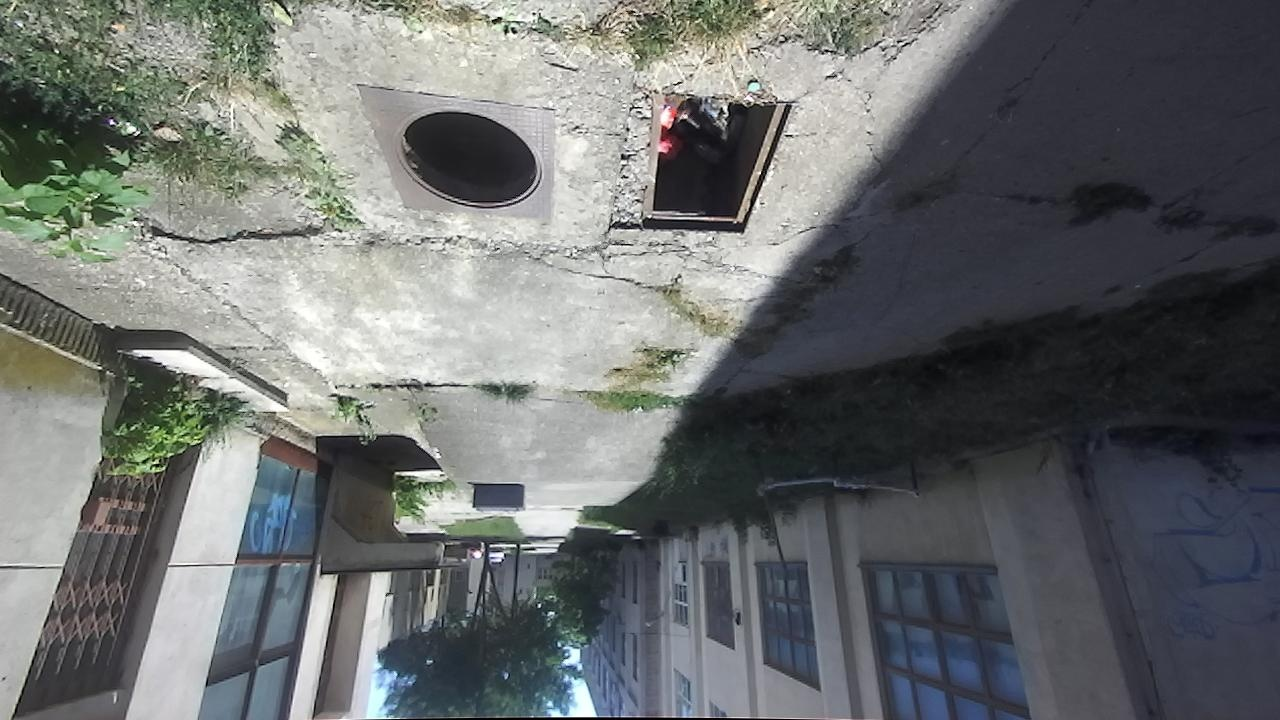drain: (611, 93, 800, 231), (398, 108, 542, 214)
